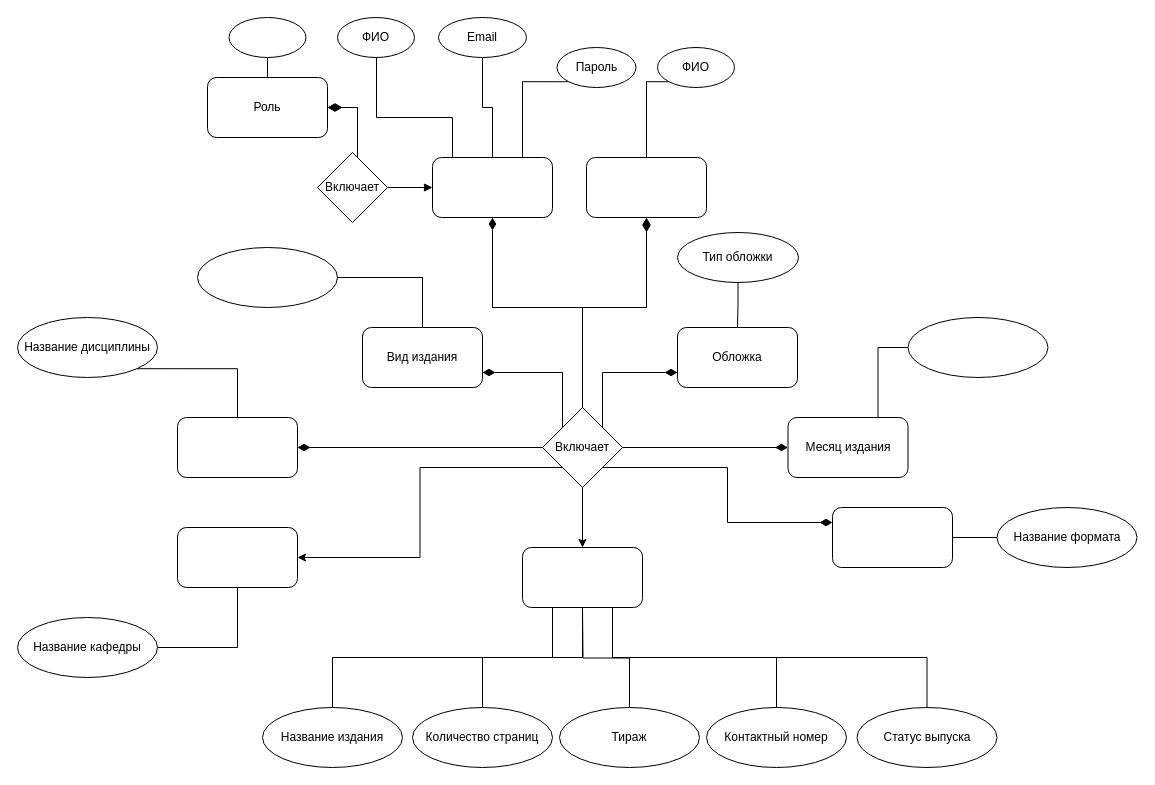
The diagram is 1155 pixels wide and 785 high, and some of its shapes have lost their labels. Here are the shapes that lost their labels. From the top down, the centre of each, then its label:
At pixel 267 37: "Название роли".
At pixel 492 187: "Пользователи".
At pixel 646 187: "Автор".
At pixel 267 277: "Название вида издания".
At pixel 977 347: "Название месяца".
At pixel 237 447: "Дисциплина".
At pixel 237 557: "Кафедра".
At pixel 892 537: "Формат бумаги".
At pixel 582 577: "Методические издания".
